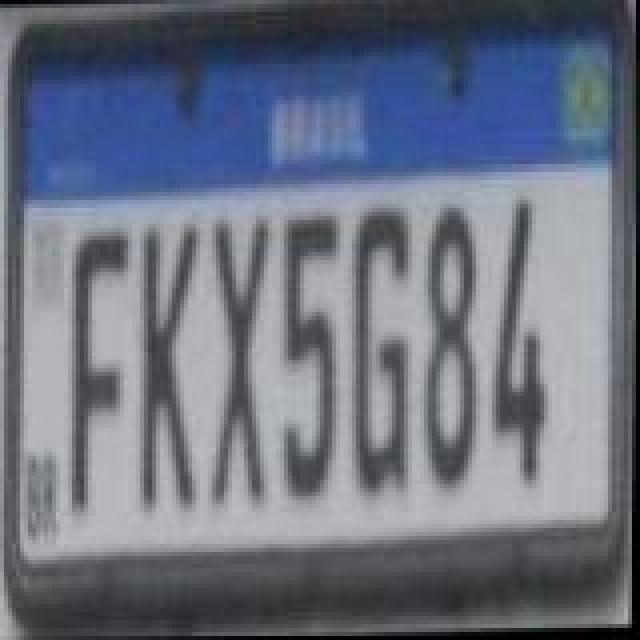4: (490, 192, 558, 484)
5: (278, 208, 346, 504)
8: (420, 198, 484, 494)
F: (66, 224, 134, 508)
G: (346, 204, 414, 500)
K: (138, 216, 206, 516)
X: (210, 218, 278, 514)
